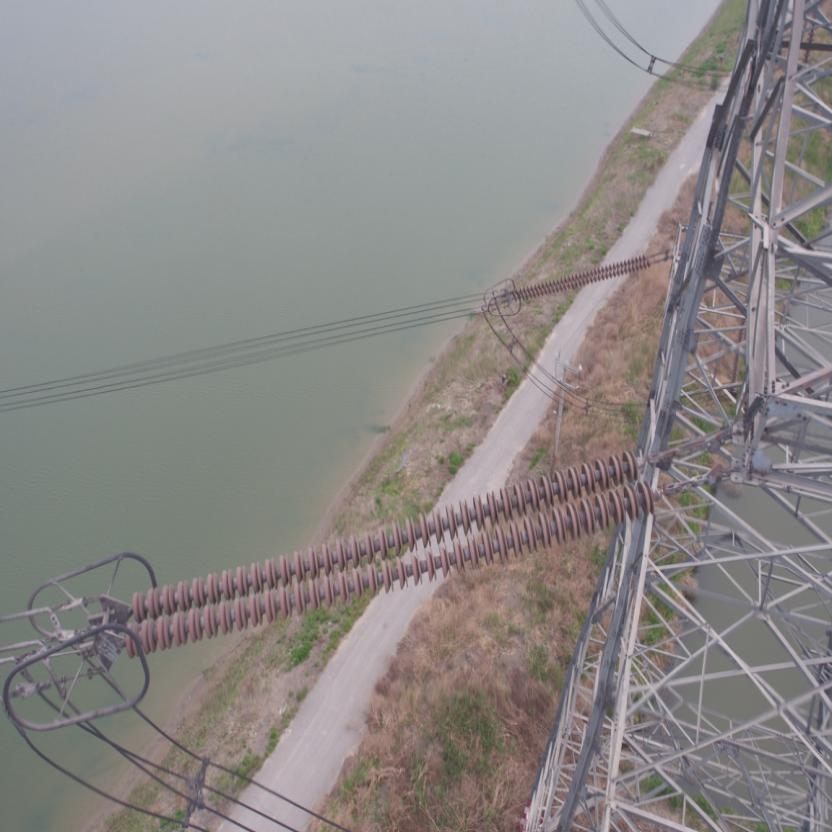insulator: (116, 442, 694, 661), (506, 250, 662, 302)
